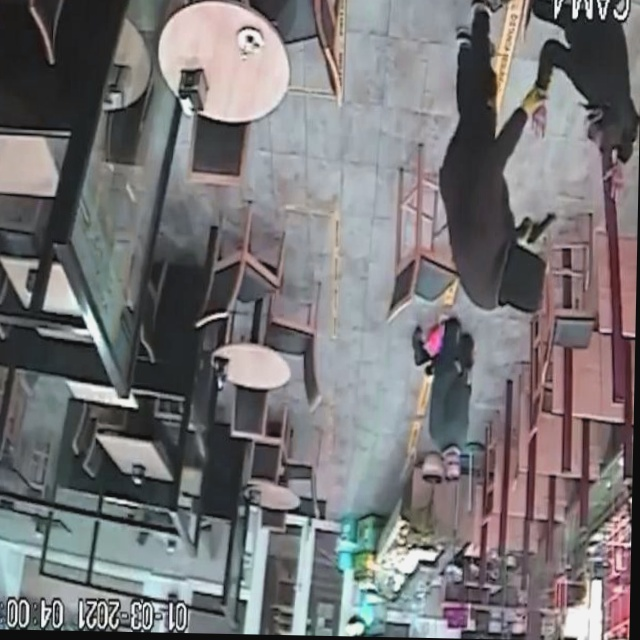gun: (521, 198, 567, 250)
